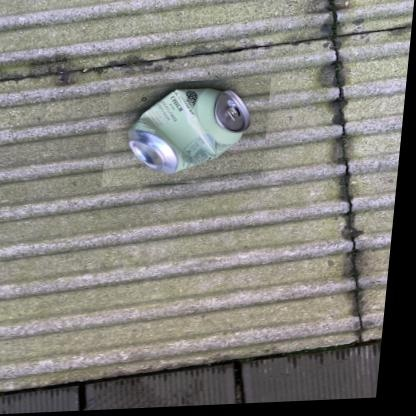trash: (128, 89, 249, 172)
